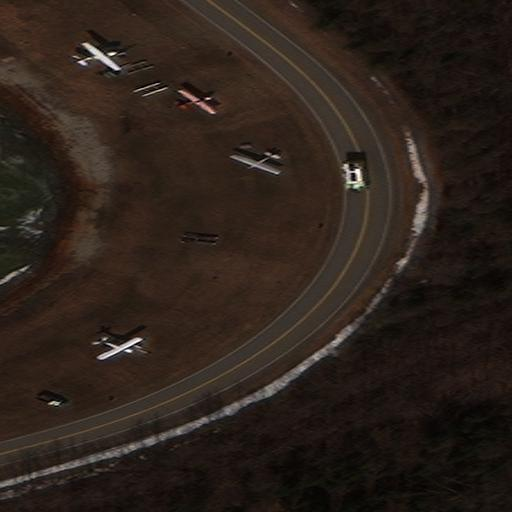Small Civil Transport: (74, 41, 121, 69), (228, 152, 276, 176), (97, 338, 143, 361), (176, 88, 215, 111)
